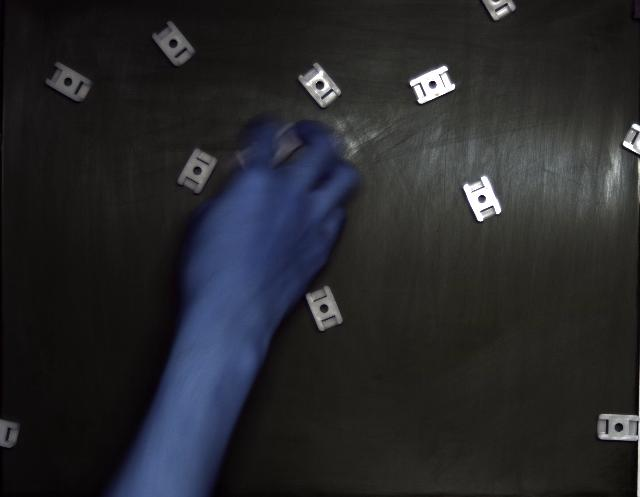second_side: (152, 21, 196, 66), (45, 62, 92, 102), (299, 64, 341, 108), (178, 149, 218, 194), (410, 66, 455, 104), (464, 176, 501, 222), (306, 286, 342, 331), (598, 414, 640, 441)
